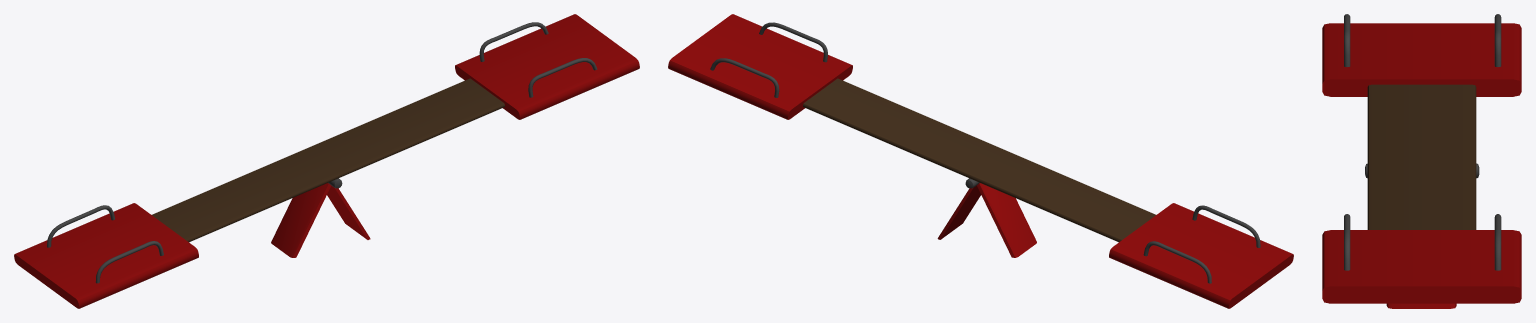
Rendered from Balancín.fbx.
The picture shows the model from 3 angles, left to right: view 1: azimuth 30°, elevation 25°; view 2: azimuth 150°, elevation 25°; view 3: azimuth 270°, elevation 25°; orthographic projection. The views are drawn at different scales.
Visible parts, largest first — view 1: Balancín; view 2: Balancín; view 3: Balancín.
Boxes of the visible parts, x1,y1,x2,y2 form: Balancín: [14, 14, 639, 308]; Balancín: [668, 14, 1293, 308]; Balancín: [1322, 14, 1521, 308].
Bounding box in the file's own units: 231 × 55.9 × 45.91.
